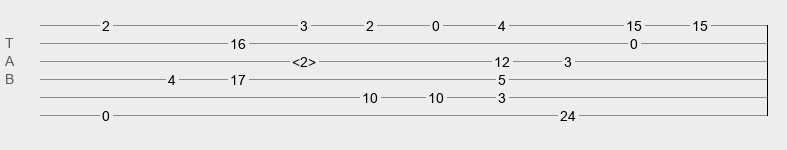0: (102, 108, 110, 118), (432, 18, 440, 28), (630, 36, 638, 46)
10: (362, 90, 378, 100), (428, 90, 444, 100)
12: (494, 54, 510, 64)
15: (626, 18, 642, 28), (692, 18, 708, 28)
16: (230, 36, 246, 46)
17: (230, 72, 246, 82)
2: (102, 18, 110, 28), (366, 18, 374, 28)
24: (560, 108, 576, 118)
3: (300, 18, 308, 28), (498, 90, 506, 100), (564, 54, 572, 64)
4: (168, 72, 176, 82), (498, 18, 506, 28)
5: (498, 72, 506, 82)
harmonic: (292, 54, 316, 64)
